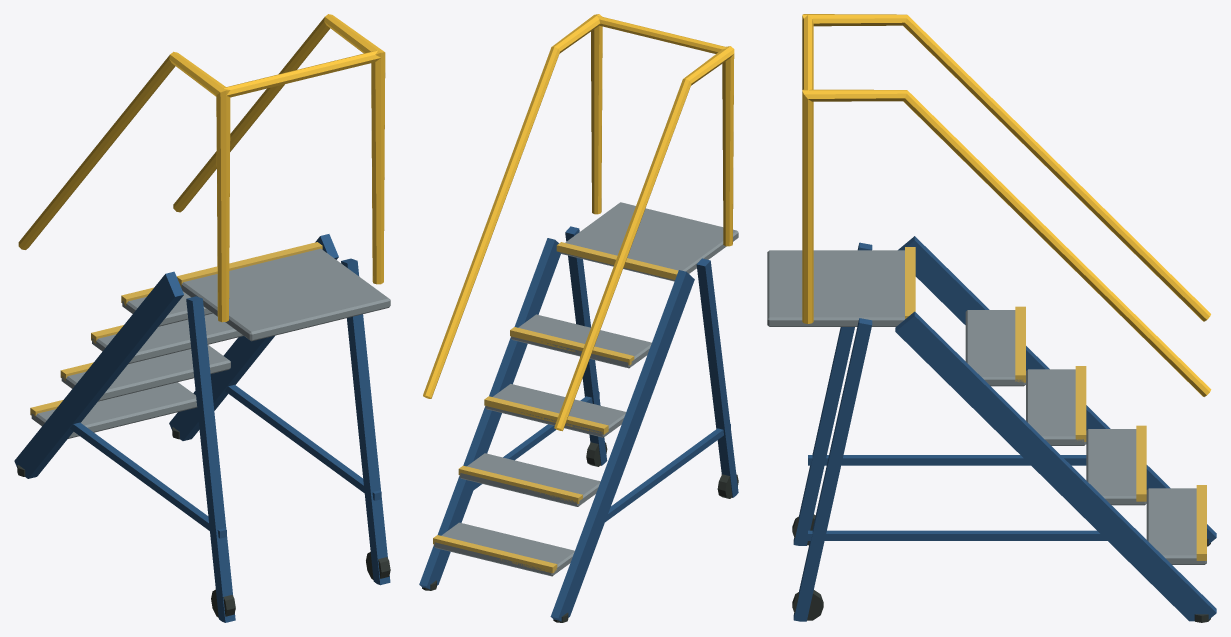
Rendered from sm_env_depot_rolling_ladder.glb.
The picture shows the model from 3 angles, left to right: view 1: azimuth 30°, elevation 25°; view 2: azimuth 150°, elevation 25°; view 3: azimuth 270°, elevation 25°; orthographic projection. The views are drawn at different scales.
Visible parts, largest first — view 1: Platform, Stringer, HandRail, HandRail.001, BackLeg, BackLeg.001, Tread, Tread.001, Stringer.001, Tread.002, Brace.001, Brace (+3 smaller); view 2: Stringer, HandRail, HandRail.001, Platform, Stringer.001, BackLeg, Tread.001, Tread, Tread.003, Tread.002, BackLeg.001, Brace (+7 smaller); view 3: Stringer.001, Platform, HandRail.001, HandRail, BackLeg.001, Tread.003, Tread.001, Tread, Tread.002, Stringer, BackLeg, Brace.001 (+7 smaller).
Part boxes in pixels (x1,y1,x2,y2): Platform: (181,248,390,341); Stringer: (14,271,183,478); HandRail: (18,51,230,322); HandRail.001: (173,14,385,284); BackLeg: (186,296,235,622); BackLeg.001: (341,258,390,585); Tread: (31,382,197,438); Tread.001: (61,345,230,401); Stringer.001: (169,234,338,440); Tread.002: (92,313,243,364); Brace.001: (224,384,381,500); Brace: (70,422,226,538); Stringer: (550,270,694,621); HandRail: (554,46,734,431); HandRail.001: (423,14,602,398); Platform: (559,202,738,281); Stringer.001: (419,238,560,589); BackLeg: (696,258,738,497); Tread.001: (459,453,600,506); Tread: (434,522,574,576); Tread.003: (511,314,651,368); Tread.002: (485,384,626,437); BackLeg.001: (565,226,607,465); Brace: (605,424,730,522); Stringer.001: (895,311,1216,621); Platform: (767,250,904,326); HandRail.001: (802,89,1211,396); HandRail: (802,14,1210,321); BackLeg.001: (793,318,872,621); Tread.003: (965,310,1025,386); Tread.001: (1086,429,1146,505); Tread: (1146,488,1206,564); Tread.002: (1026,369,1086,445); Stringer: (898,236,1216,543); BackLeg: (793,242,872,545); Brace.001: (808,530,1107,540).
Bounding box in the file's own units: 0.75 × 2.22 × 1.71.
